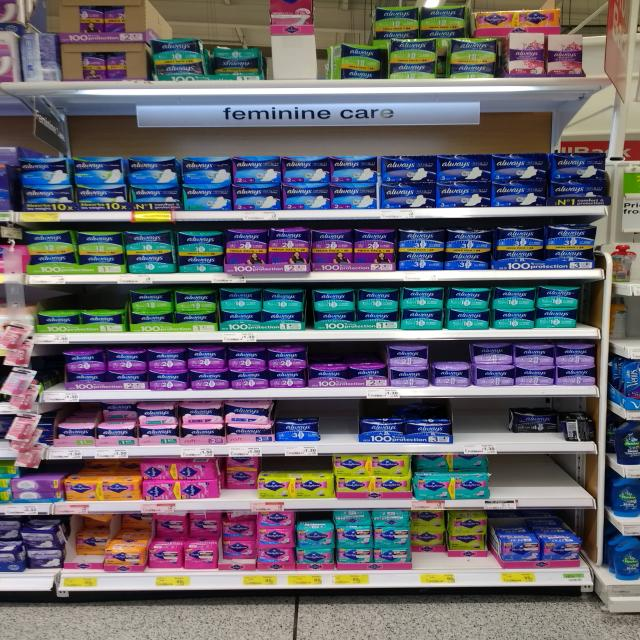unorganised: (512, 407, 590, 440), (449, 508, 486, 565), (335, 40, 386, 78), (412, 512, 446, 564), (212, 44, 261, 76), (224, 518, 255, 562), (74, 517, 105, 560), (221, 459, 256, 497), (416, 455, 488, 472), (186, 515, 221, 538), (119, 512, 154, 534), (101, 404, 135, 425), (156, 515, 185, 539)
